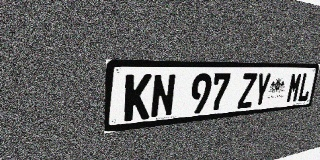7: (209, 73, 231, 112)
9: (189, 73, 213, 114)
K: (124, 74, 152, 121)
L: (297, 72, 313, 102)
M: (286, 73, 303, 103)
N: (150, 74, 176, 119)
Y: (252, 73, 272, 107)
Z: (237, 73, 258, 109)
